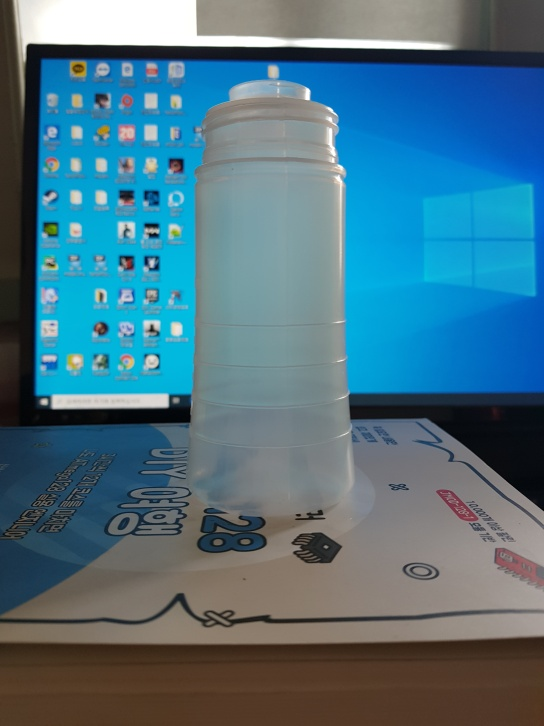Plastic: (187, 78, 363, 515)
